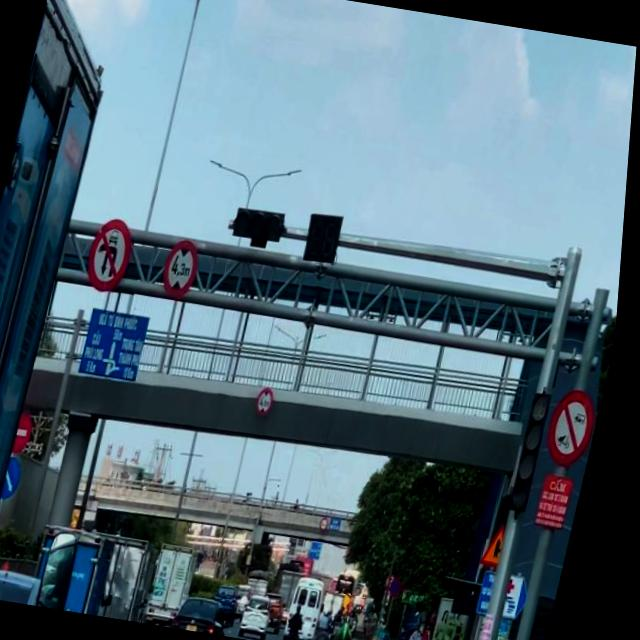Cam dung xe va do xe: (397, 574, 413, 599)
Han che chieu cao: (163, 236, 205, 301), (260, 385, 283, 418)
